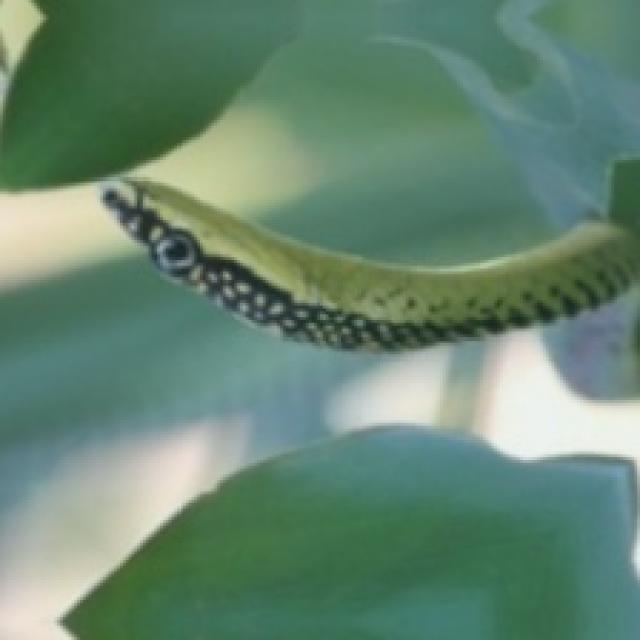paradise tree snake: (103, 160, 637, 346)
